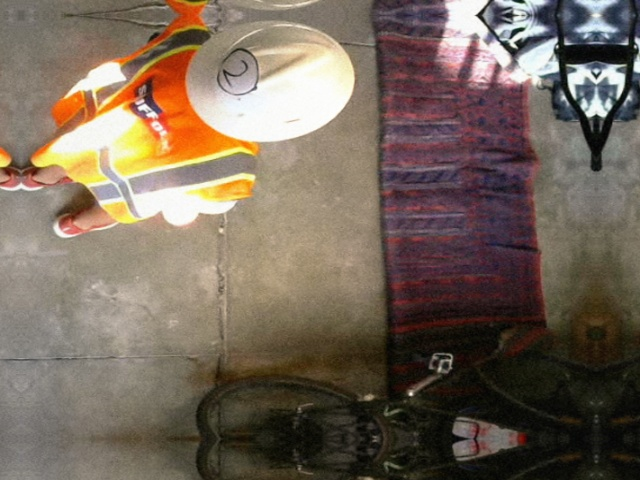two: (214, 46, 259, 96)
